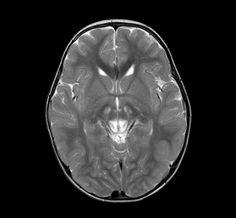Normal_Brain: (2, 2, 236, 218)
